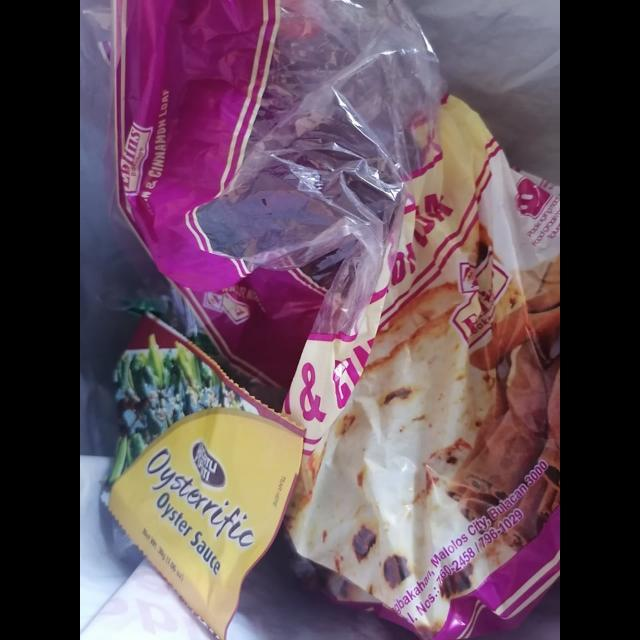plastic: (113, 0, 560, 640)
wrapper: (101, 313, 305, 640)
